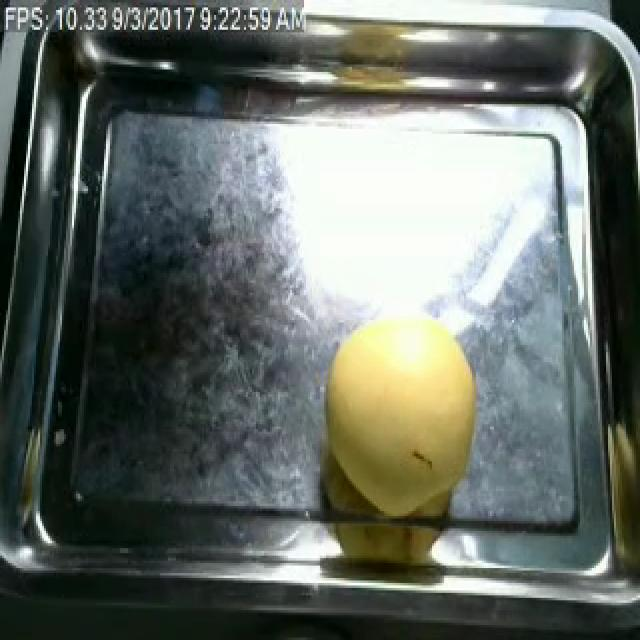Fruit: (310, 302, 492, 524)
